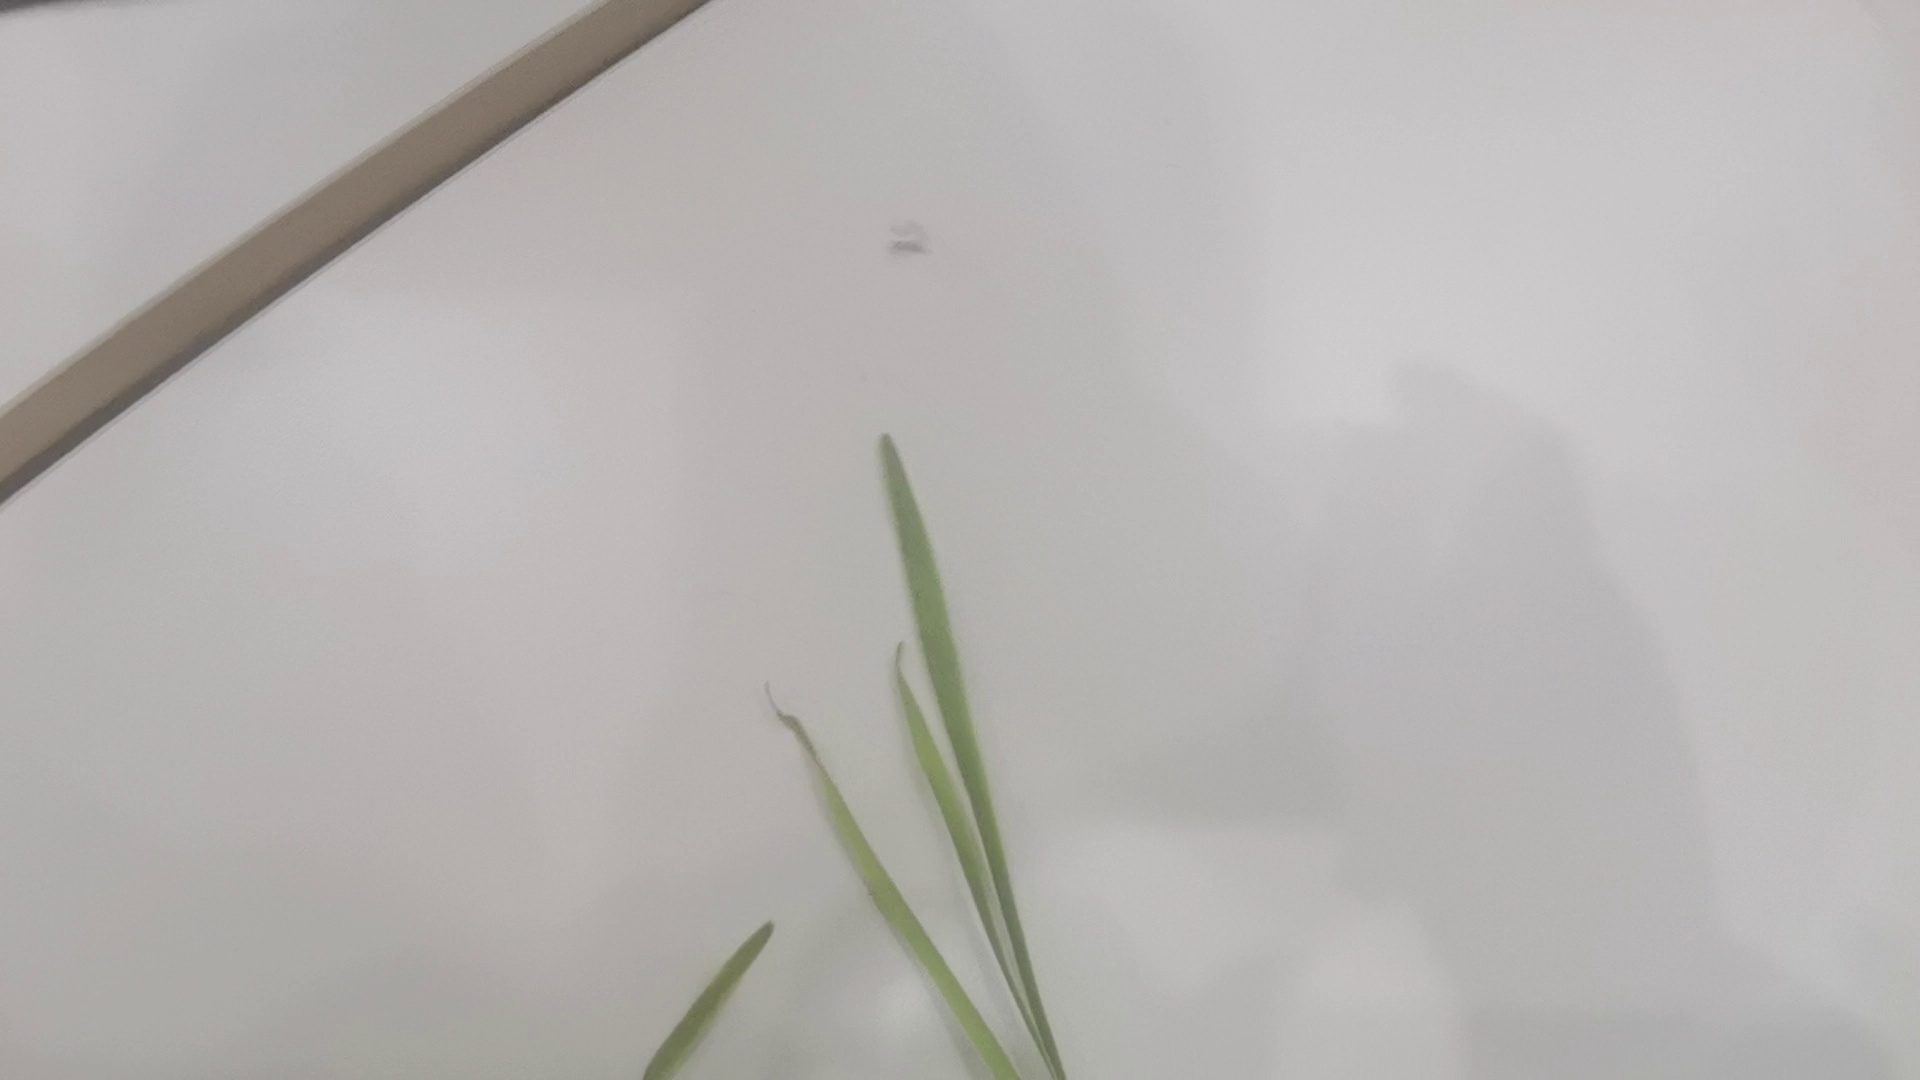chives: (574, 436, 1063, 1080)
